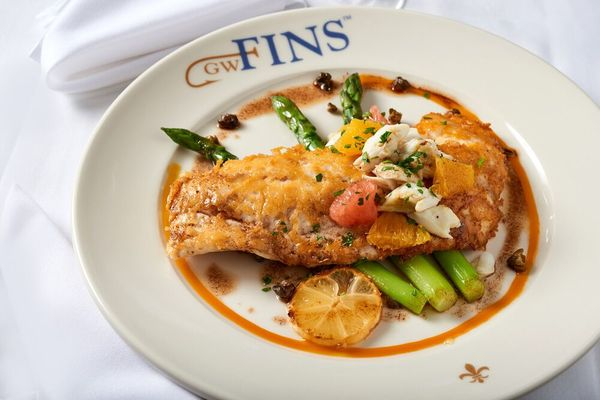curry: (271, 95, 326, 150)
sushi: (71, 3, 576, 392)
